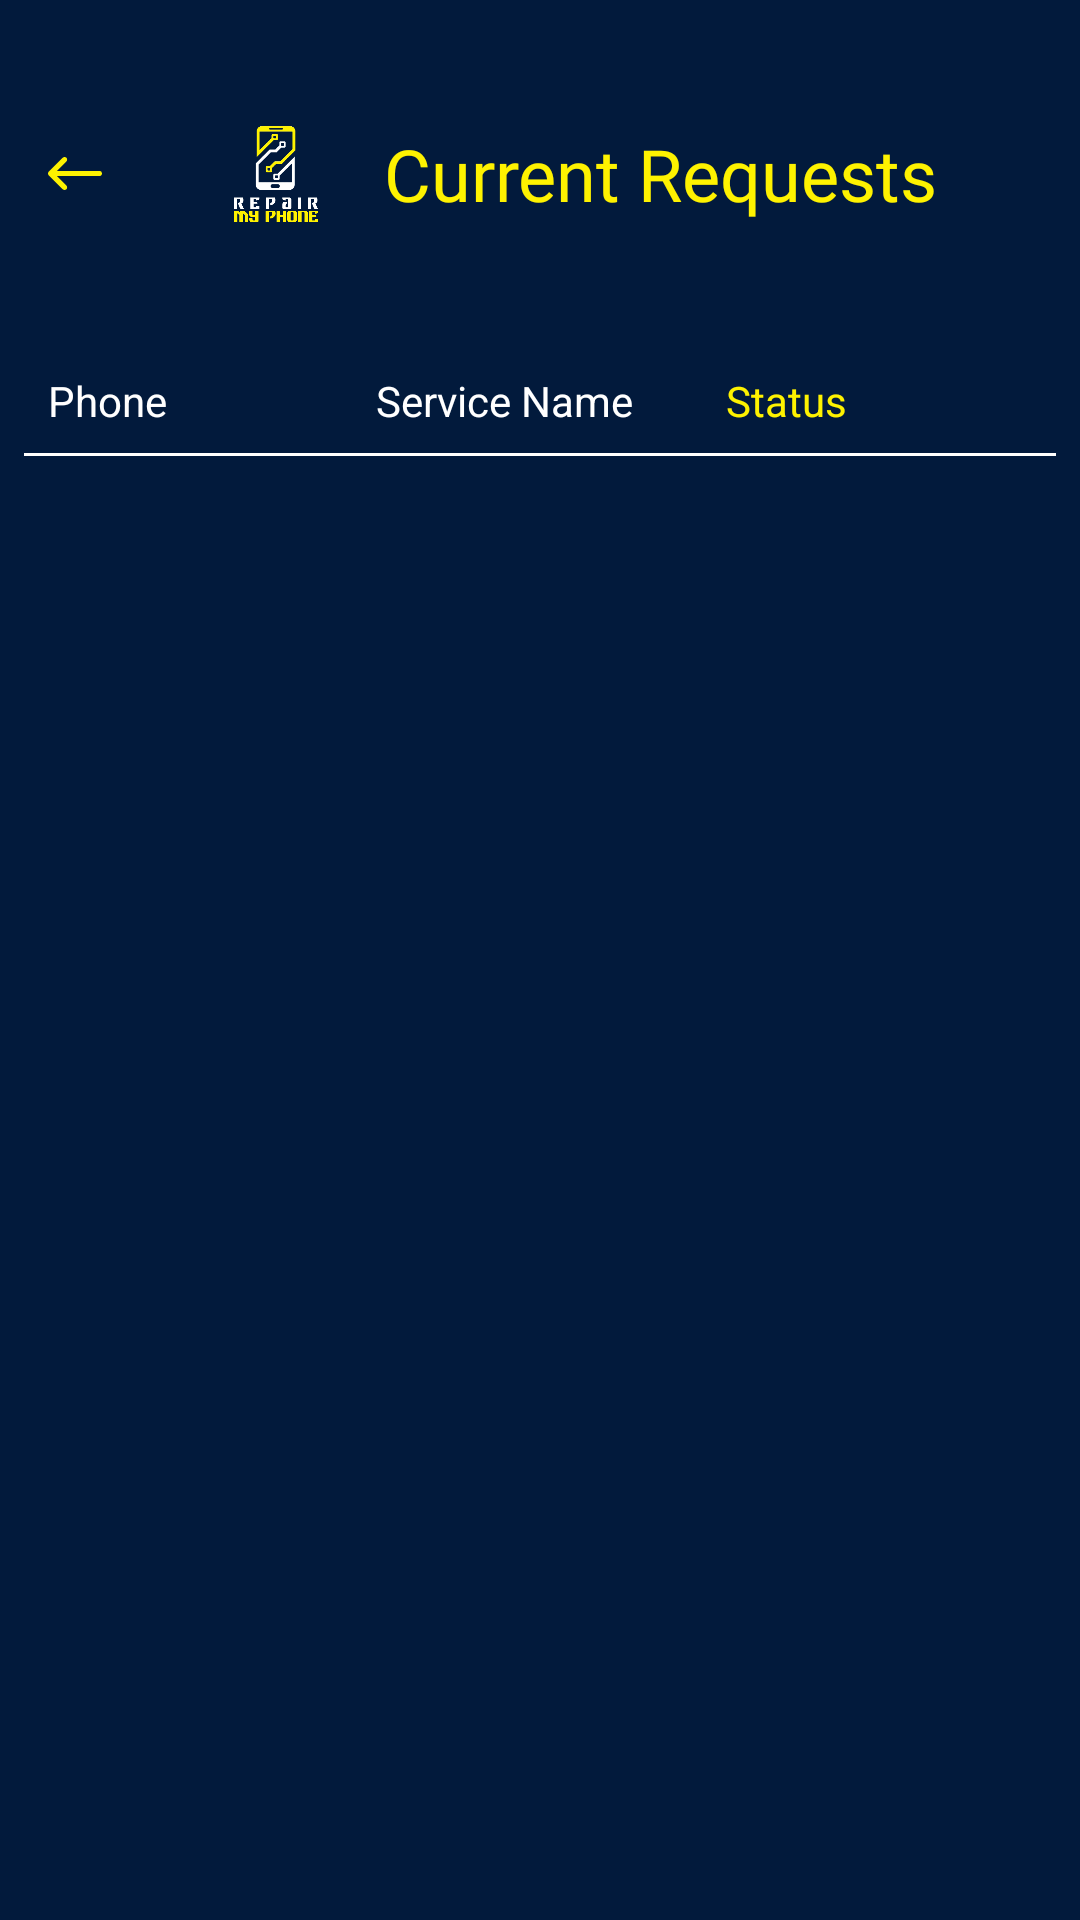

Icon bounding boxes for this 1080*1920 phone screenshot, format (x1, y1, x2, y2):
back: (48, 157, 102, 190)
